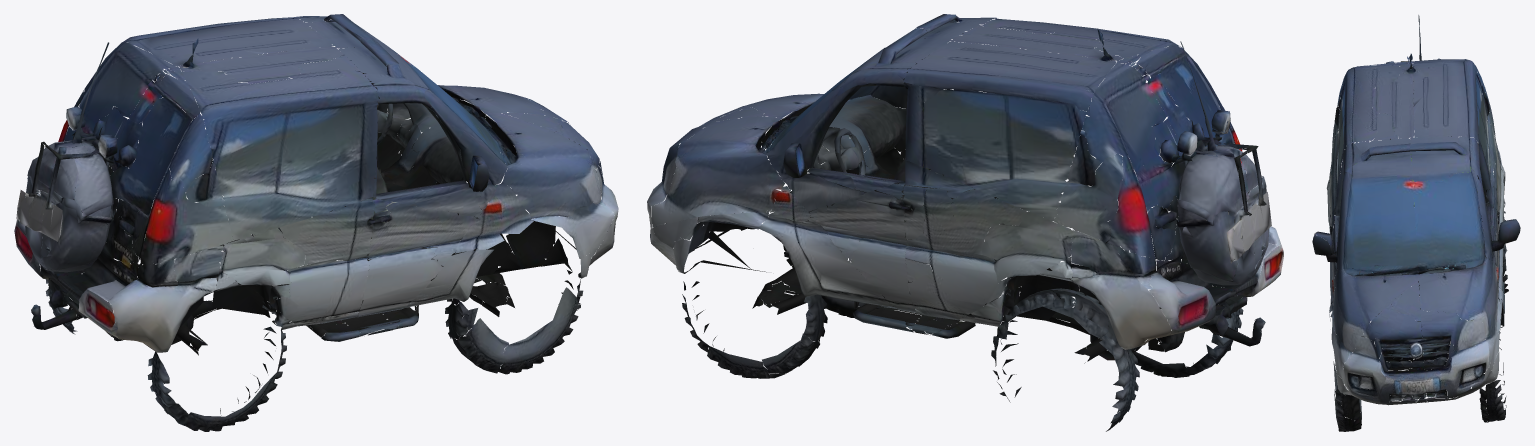
File: linus_terrano.glb
3 renders of one model, left to right at view 1: azimuth 30°, elevation 25°; view 2: azimuth 150°, elevation 25°; view 3: azimuth 270°, elevation 25°, orthographic. The views are drawn at different scales.
Visible parts, largest first — view 1: V_BODY; view 2: V_BODY; view 3: V_BODY.
Part boxes in pixels (left/top/right/bottom): V_BODY: left=14, top=14, right=618, bottom=431; V_BODY: left=647, top=14, right=1283, bottom=431; V_BODY: left=1312, top=15, right=1520, bottom=431.
Size of the model in its own units: 4.1 by 2.65 by 1.77.
1 material, 1 textured.
